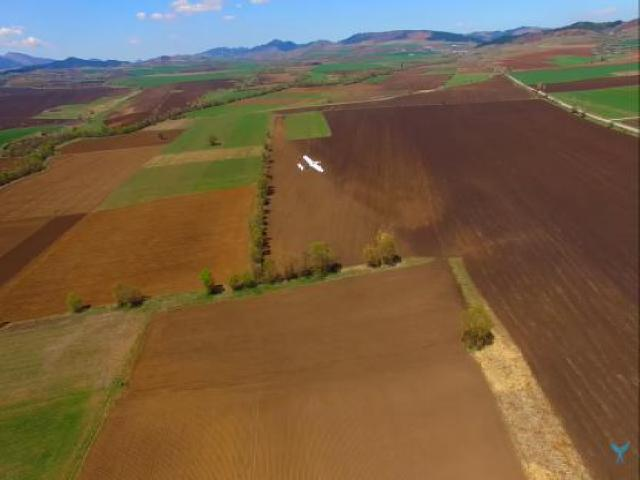uav: (289, 146, 328, 179)
